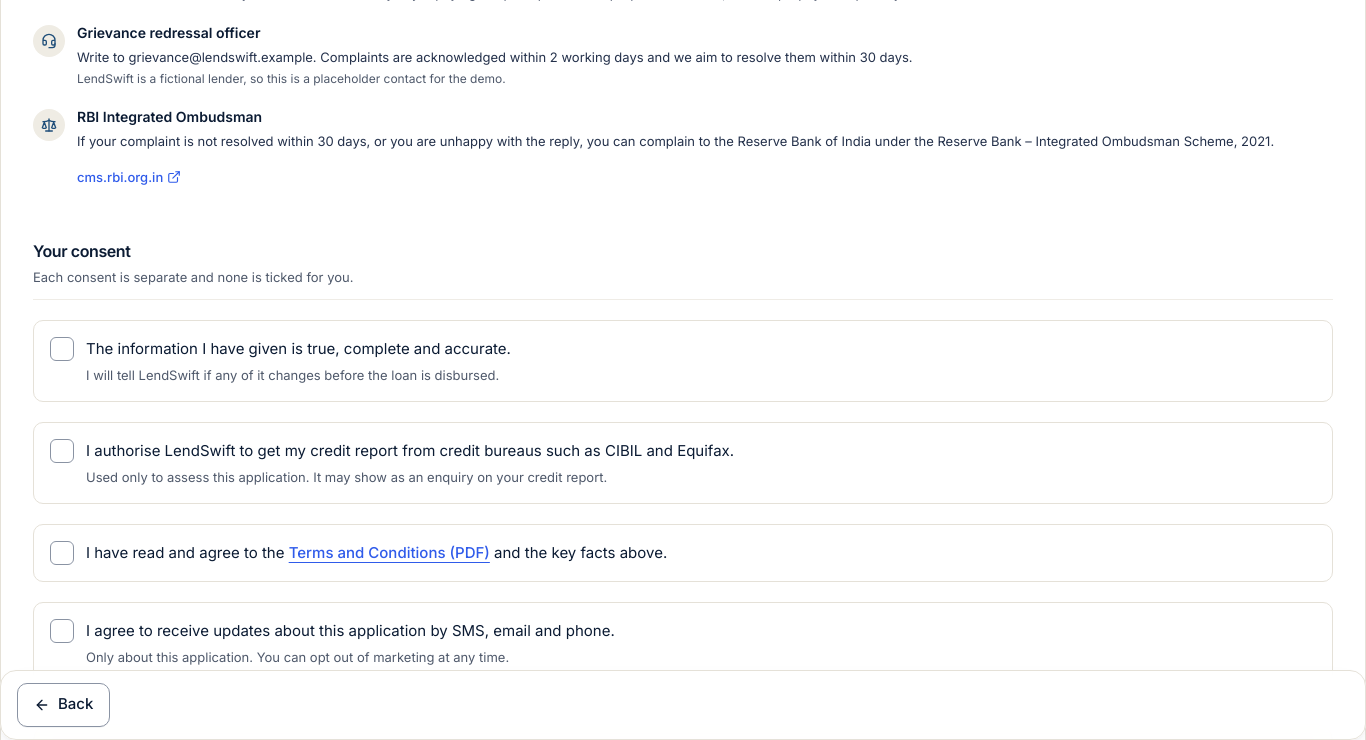
Step 8 — review and submit › keeps Submit disabled until all four separate consents are ticked, then submits once
(page scrolled)
Expected: the checkbox labelled "get my credit report" is not checked, [50, 438, 74, 462]
Expected: the checkbox labelled "I have read and agree" is not checked, [50, 540, 74, 564]
Click the checkbox labelled "The information I have given is true, complete and accurate.". click: (62, 348)
box: [50, 336, 74, 360]
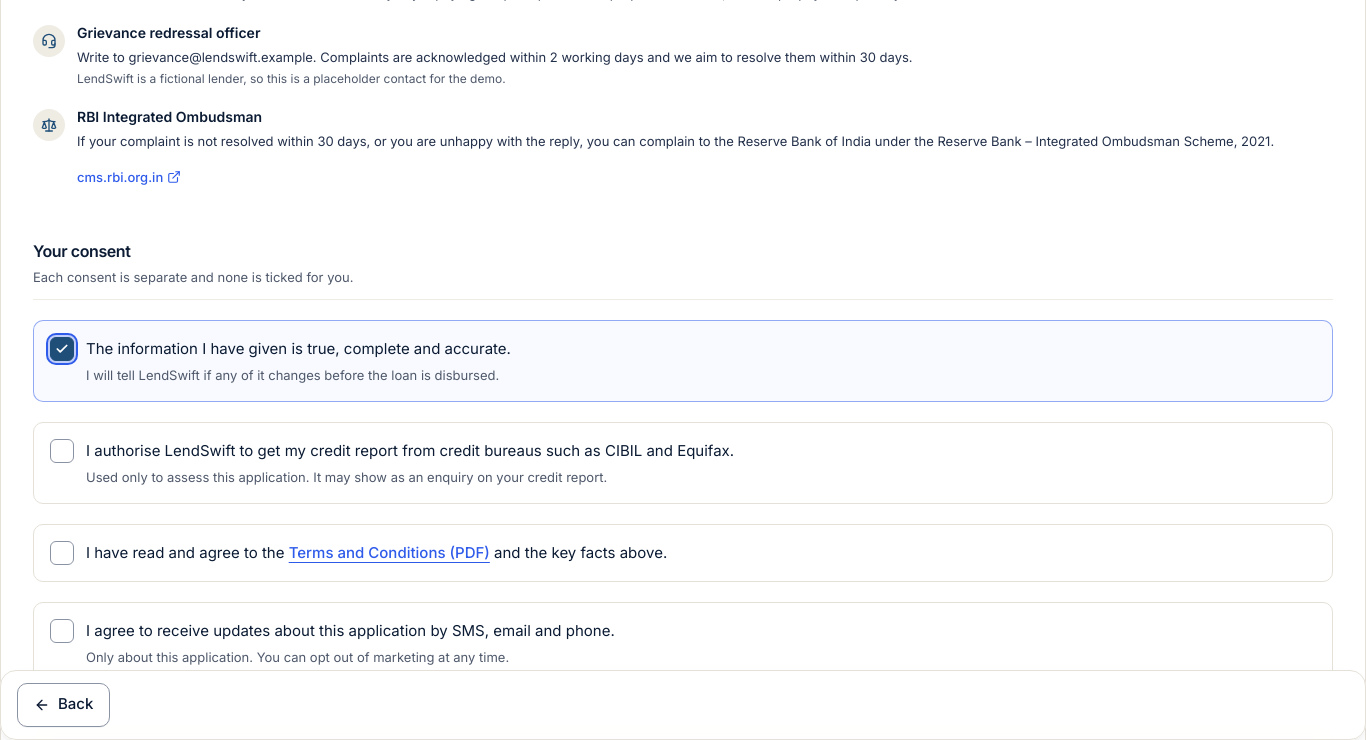
Click the checkbox labelled "get my credit report". click: (62, 450)
box: [50, 438, 74, 462]
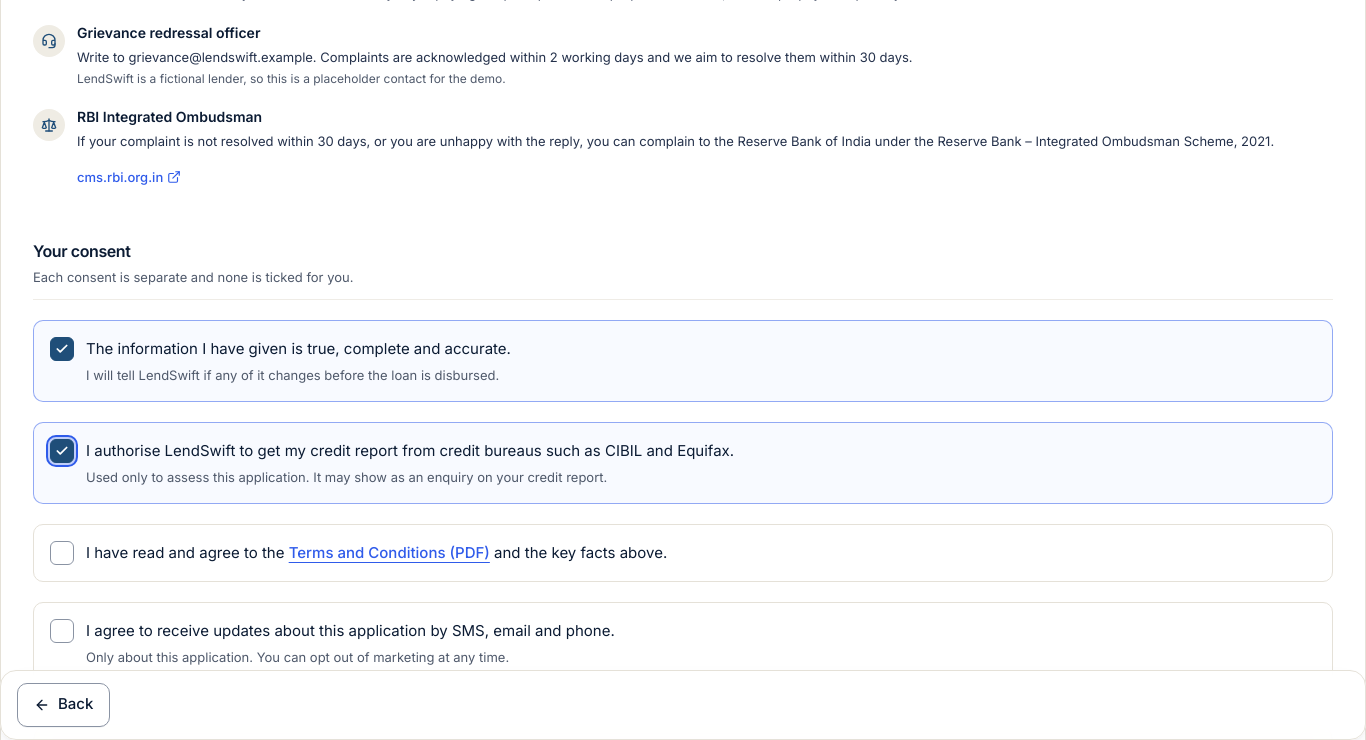
Click the checkbox labelled "I have read and agree". click: (62, 552)
box: [50, 540, 74, 564]
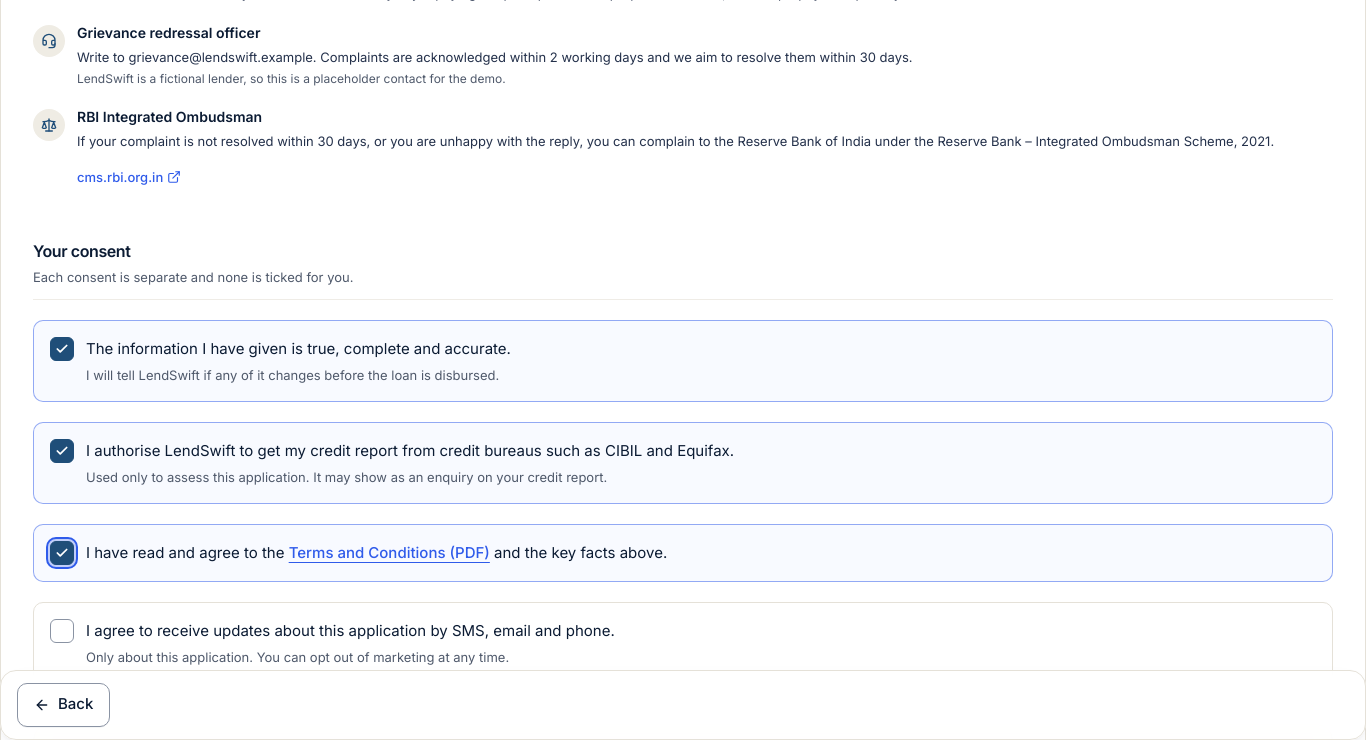
Click the checkbox labelled "receive updates". click: (62, 630)
box: [50, 618, 74, 642]
(page scrolled)
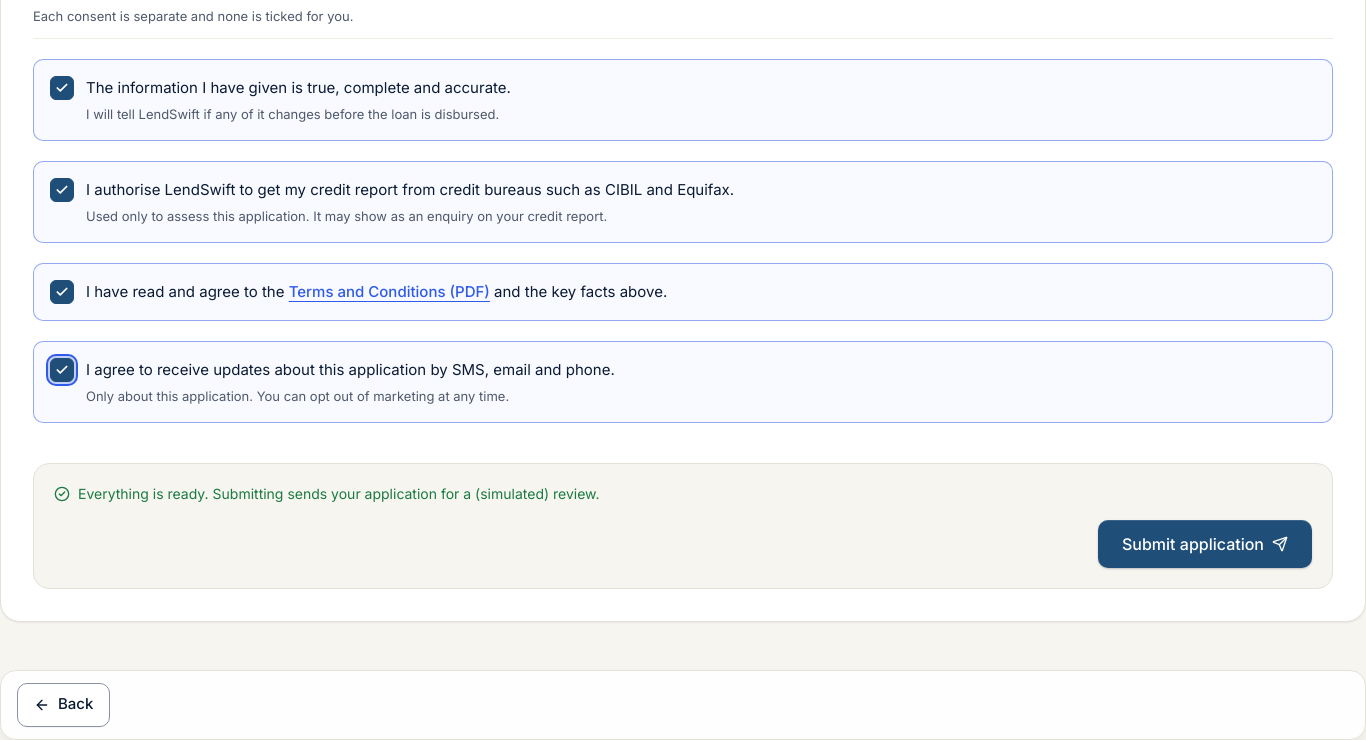
Result: the button "Submit application" is enabled
Click the button "Submit application". click: (1205, 544)
box: [1098, 520, 1312, 568]
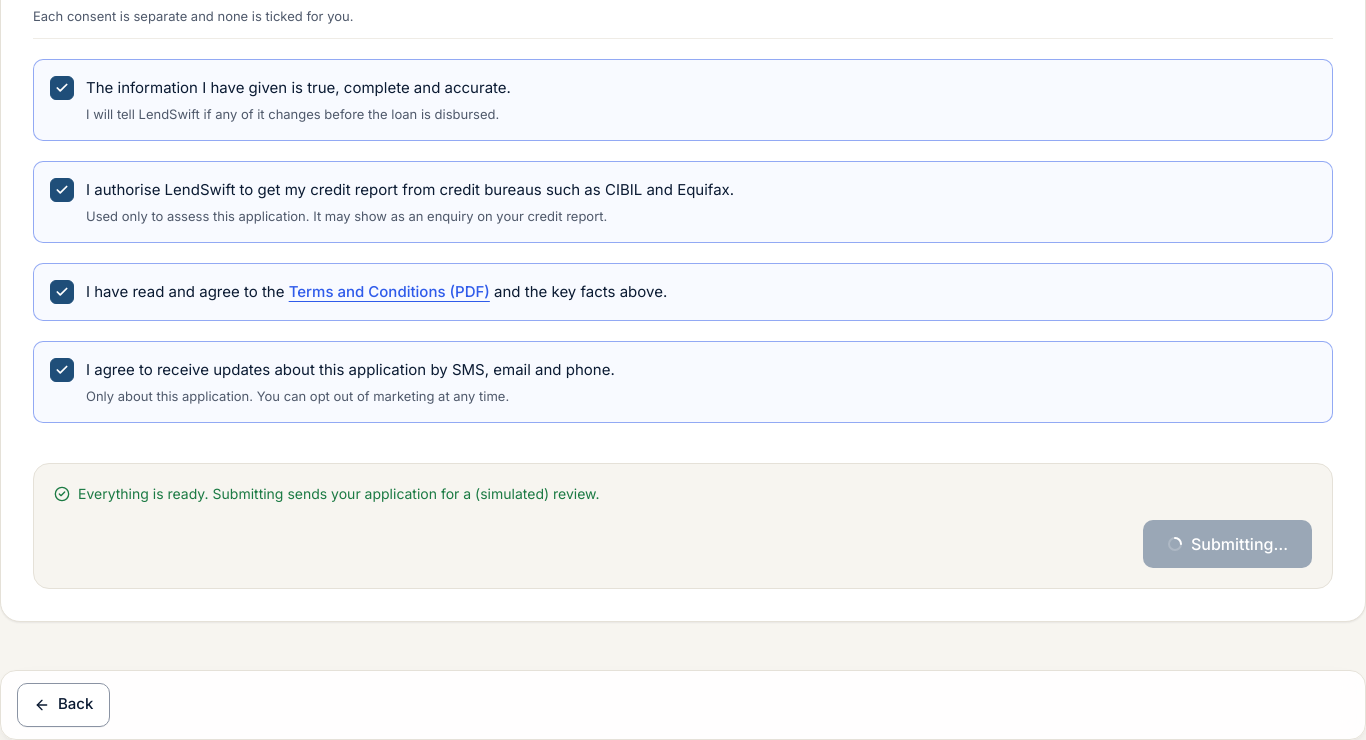
Click the button named "Submit application". click: (1227, 544)
box: [1143, 520, 1312, 568]
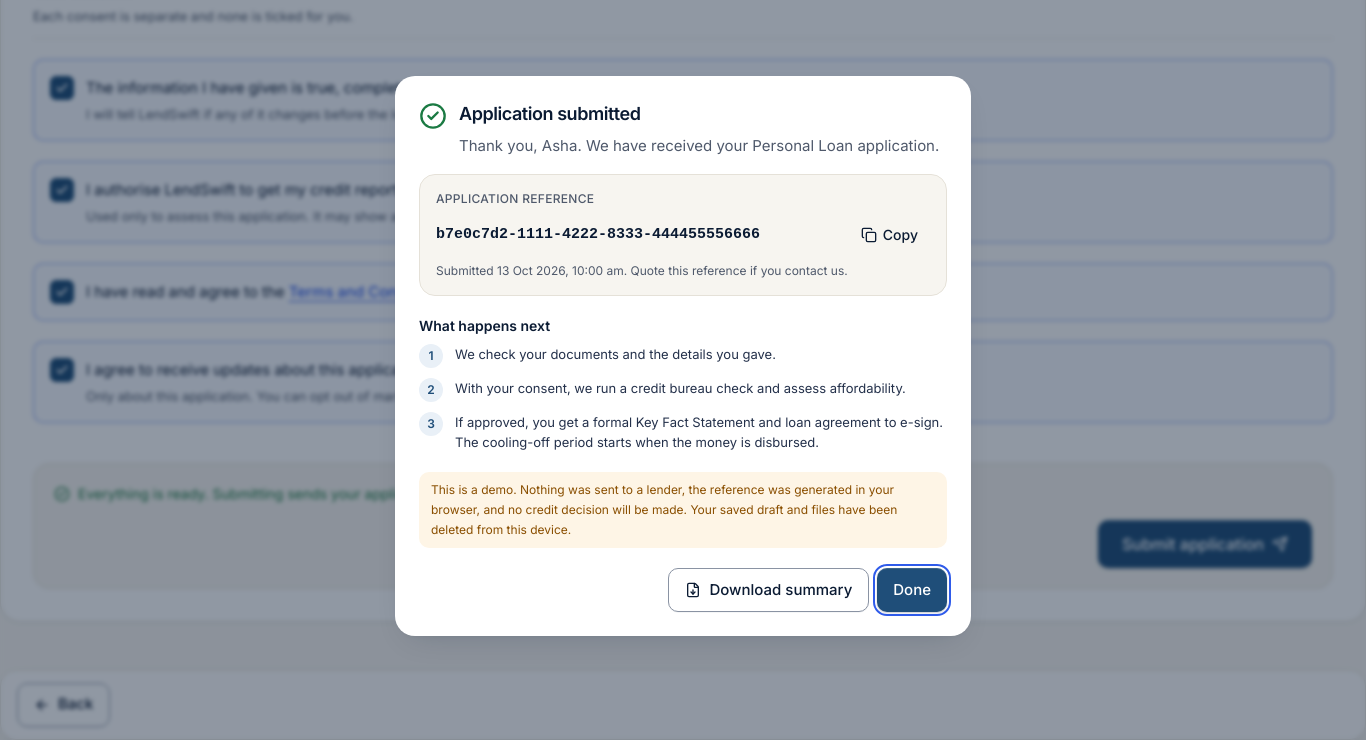
Result: the text "b7e0c7d2-1111-4222-8333-444455556666" is shown at [436, 224, 760, 246]
